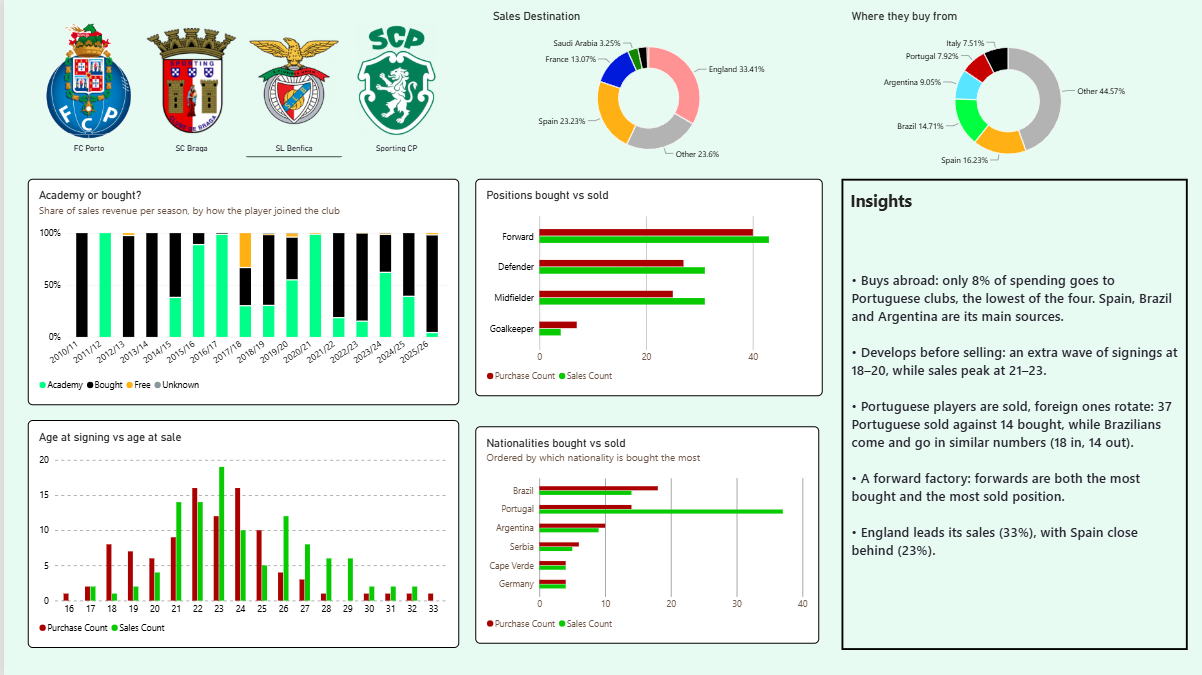

What the dashboard file says about the page in this screenshot:
{"tool":"powerbi","page":{"name":"Profile","canvas":[1920,1080],"ordinal":2},"visuals":[{"type":"advancedSlicerVisual","title":"Club","fields":{"Values":["clubs.name"]},"box":[37.5,35,690.7,216.3],"z":0},{"type":"hundredPercentStackedColumnChart","title":"Academy or bought?","fields":{"Category":["Dates.Season"],"Series":["transfers.sale_origin"],"Y":["_Measures.Sales Revenue"]},"box":[37.5,285,690,362.5],"z":1000},{"type":"clusteredColumnChart","title":"Age at signing vs age at sale","fields":{"Category":["transfers.age_at_transfer"],"Y":["_Measures.Purchase Count","_Measures.Sales Count"]},"box":[37.5,672.5,690,365],"z":2000},{"type":"clusteredBarChart","title":"Positions bought vs sold","fields":{"Category":["players.position"],"Y":["_Measures.Purchase Count","_Measures.Sales Count"]},"box":[754,286,556,348],"z":3000},{"type":"clusteredBarChart","title":"Nationalities bought vs sold","fields":{"Category":["players.country_of_citizenship"],"Y":["_Measures.Purchase Count","_Measures.Sales Count"]},"box":[754,682,550,348],"z":4000},{"type":"donutChart","title":"Sales Destination","fields":{"Category":["transfers.sales_destination"],"Y":["_Measures.Sales Revenue"]},"box":[766.7,0,530.9,278.2],"z":5000},{"type":"donutChart","title":"Where they buy from","fields":{"Category":["transfers.purchase_origin"],"Y":["_Measures.Money Spent"]},"box":[1340,0,533.3,286.7],"z":6000},{"type":"shape","box":[1340,286,554,754],"z":7000},{"type":"textbox","box":[1354,302,110,48],"z":7001},{"type":"cardVisual","fields":{"Data":["_Measures.Insights Profile"]},"box":[1340,286,562,754],"z":7002}]}

Visuals, with their boxes in screenshot pixels (x1, y1, x2, y2), scaled from the page's 1920x1080 canvas onto the 1202x675 screenshot:
"Club" advancedSlicerVisual: 23 22 456 157
"Academy or bought?" hundredPercentStackedColumnChart: 23 178 455 405
"Age at signing vs age at sale" clusteredColumnChart: 23 420 455 648
"Positions bought vs sold" clusteredBarChart: 472 179 820 396
"Nationalities bought vs sold" clusteredBarChart: 472 426 816 644
"Sales Destination" donutChart: 480 0 812 174
"Where they buy from" donutChart: 839 0 1173 179
shape: 839 179 1186 650
textbox: 848 189 917 219
cardVisual - _Measures.Insights Profile: 839 179 1191 650
